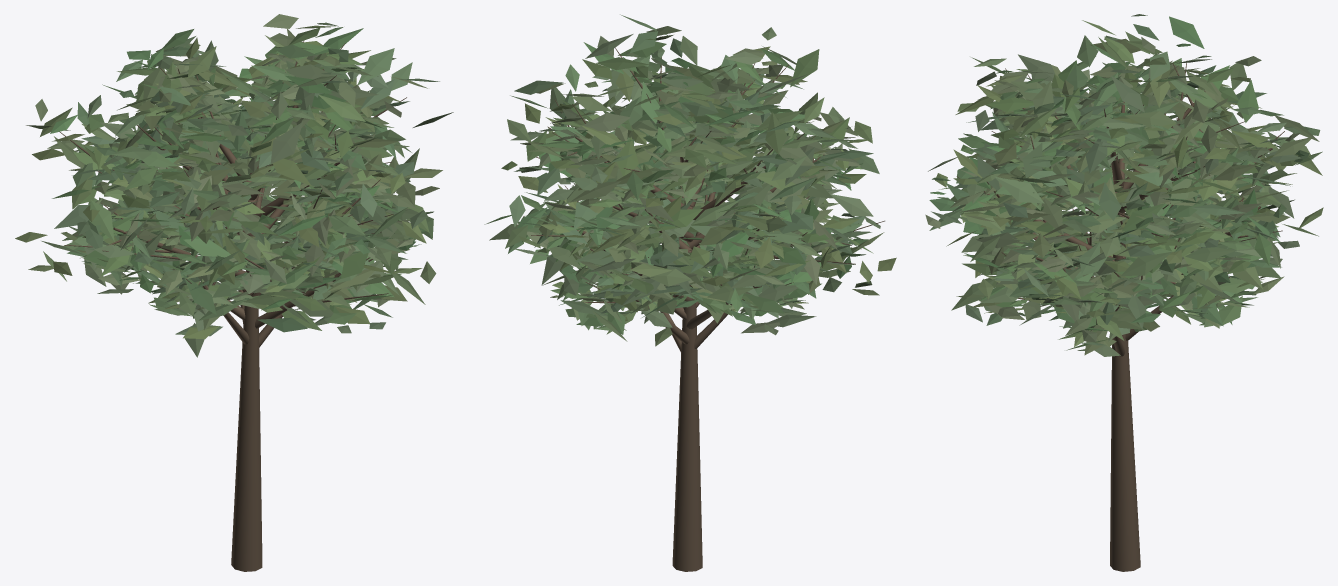
Rendered from Tree1.glb.
3 views of the same model, side by side, from view 1: azimuth 30°, elevation 25°; view 2: azimuth 150°, elevation 25°; view 3: azimuth 270°, elevation 25° (orthographic). The views are drawn at different scales.
Bounding box in the file's own units: 3.12 × 3.99 × 2.77.
